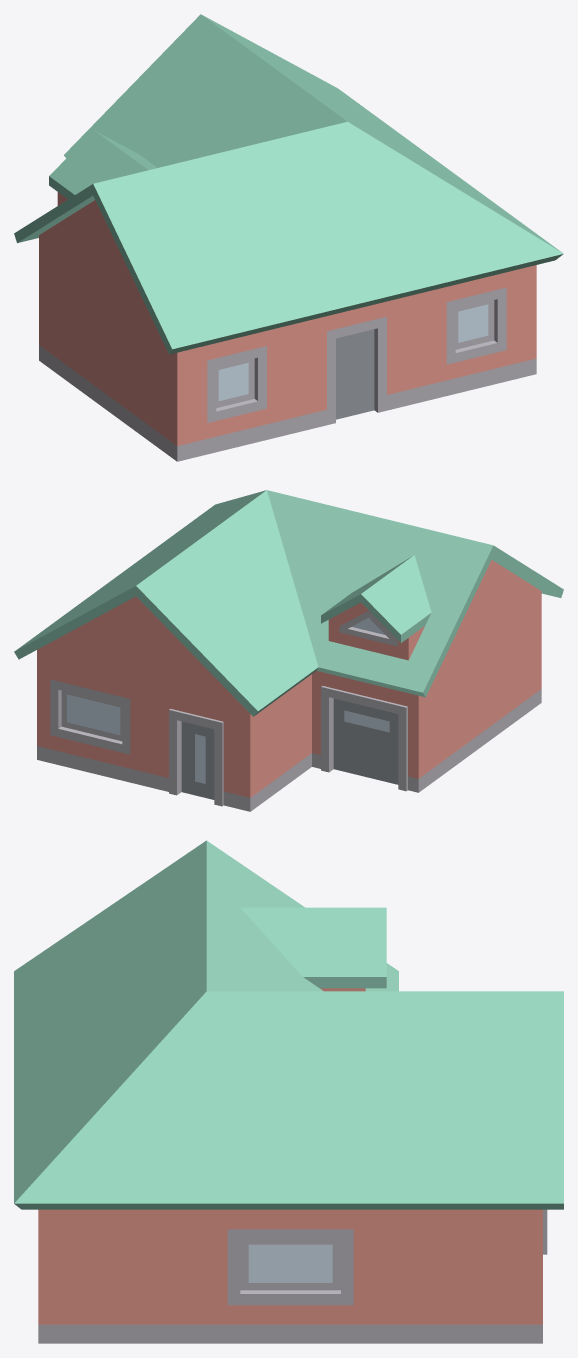
File: house-type05.glb
3 renders of one model, top to bottom at view 1: azimuth 30°, elevation 25°; view 2: azimuth 150°, elevation 25°; view 3: azimuth 270°, elevation 25°, orthographic. The views are drawn at different scales.
Parts seen in each view (by area): view 1: house_type05; view 2: house_type05; view 3: house_type05.
Boxes of the visible parts, x1,y1,x2,y2 form: house_type05: (14, 14, 563, 461); house_type05: (14, 490, 563, 811); house_type05: (14, 840, 563, 1343).
Bounding box in the file's own units: 1.31 × 0.7374 × 1.31.
1 material, 1 textured.
